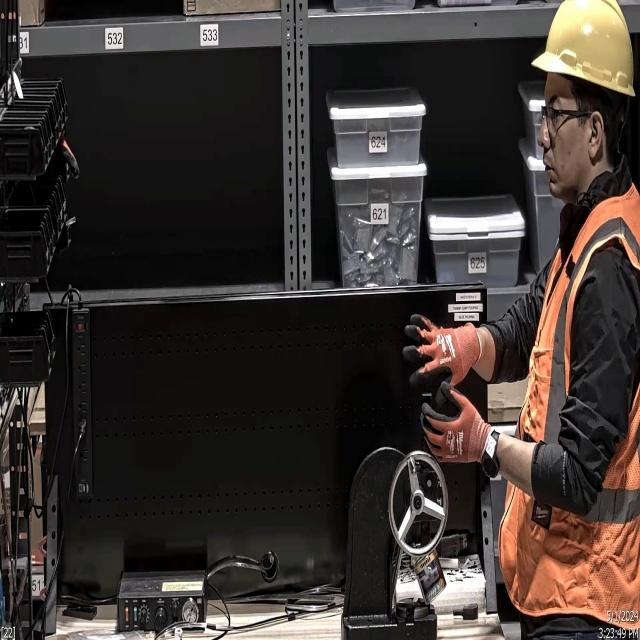construction-gloves: (398, 309, 486, 394), (418, 384, 490, 466)
